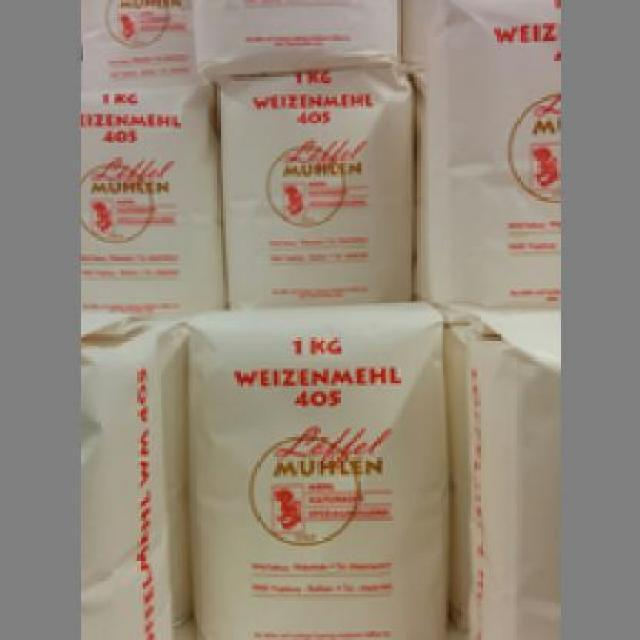Flour: (182, 300, 452, 637), (397, 0, 557, 303), (212, 62, 414, 298), (77, 70, 220, 306)
